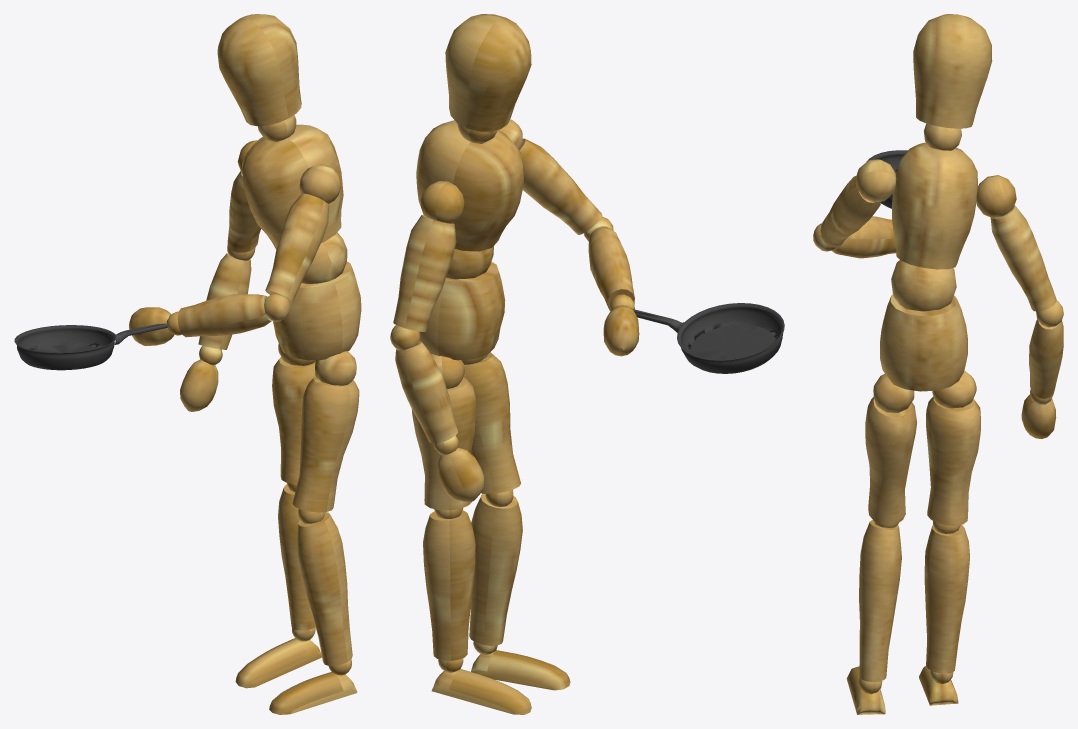
File: Human_Cooking_01.obj
3 views of the same model, side by side, from view 1: azimuth 30°, elevation 25°; view 2: azimuth 150°, elevation 25°; view 3: azimuth 270°, elevation 25° (orthographic). The views are drawn at different scales.
Parts seen in each view (by area): view 1: head, lThigh, chest, lShin, hip, lShldr, lForeArm, rThigh, rShin, rFoot, lFoot, poele Cylinder_11:1 (+7 smaller); view 2: chest, head, rShin, lShin, rShldr, hip, lThigh, poele Cylinder_11:1, rForeArm, lShldr, rThigh, rFoot (+6 smaller); view 3: chest, head, hip, rThigh, lThigh, rShin, lShin, rShldr, lShldr, rForeArm, chest abdomen:2, lForeArm (+4 smaller).
Part boxes in pixels (x1,y1,x2,y2): head: (217, 14, 301, 126); lThigh: (292, 351, 359, 512); chest: (242, 124, 343, 249); lShin: (297, 509, 352, 666); hip: (273, 261, 361, 360); lShldr: (265, 164, 340, 303); lForeArm: (177, 293, 290, 337); rThigh: (272, 343, 315, 483); rShin: (278, 483, 315, 630); rFoot: (235, 627, 321, 688); lFoot: (269, 659, 357, 714); poele Cylinder_11:1: (16, 325, 114, 352); chest: (416, 120, 523, 251); head: (445, 14, 531, 131); rShin: (423, 508, 475, 660); lShin: (469, 490, 522, 645); rShldr: (393, 181, 464, 331); hip: (419, 261, 505, 360); lThigh: (461, 352, 520, 493); poele Cylinder_11:1: (678, 303, 783, 359); rForeArm: (390, 325, 457, 443); lShldr: (498, 119, 602, 234); rThigh: (411, 354, 476, 510); rFoot: (431, 658, 531, 714); chest: (892, 142, 978, 269); head: (913, 14, 992, 128); hip: (880, 294, 967, 391); rThigh: (926, 370, 980, 525); lThigh: (865, 374, 917, 525); rShin: (924, 521, 969, 673); lShin: (859, 520, 901, 681); rShldr: (976, 175, 1056, 311); lShldr: (820, 159, 896, 247); rForeArm: (1029, 300, 1063, 398); chest abdomen:2: (891, 260, 956, 311); lForeArm: (813, 216, 896, 258).
Bounding box in the file's own units: 0.4915 × 0.9071 × 0.3071.
Materials: 5 (2 with a texture image).
